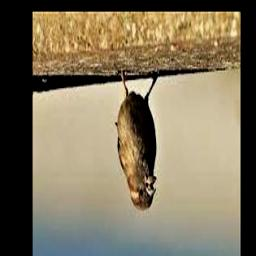Sparrow: (115, 72, 159, 212)
